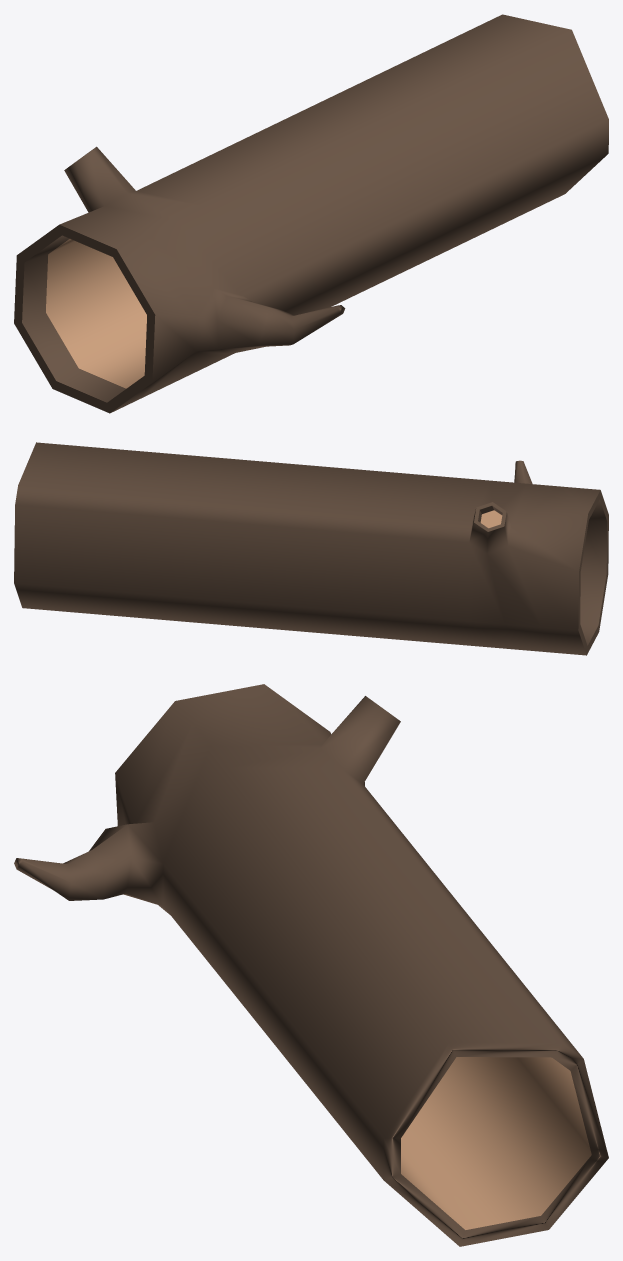
The model's file is TreeFell.fbx.
3 renders of one model, top to bottom at view 1: azimuth 30°, elevation 25°; view 2: azimuth 150°, elevation 25°; view 3: azimuth 270°, elevation 25°, orthographic. The views are drawn at different scales.
Visible parts, largest first — view 1: FellTree; view 2: FellTree; view 3: FellTree.
Part boxes in pixels (box(x1,y1,x2,y2)): FellTree: box(14, 14, 608, 413); FellTree: box(14, 442, 608, 655); FellTree: box(14, 684, 608, 1246).
Size of the model in its own units: 7.12 by 2.17 by 4.83.
